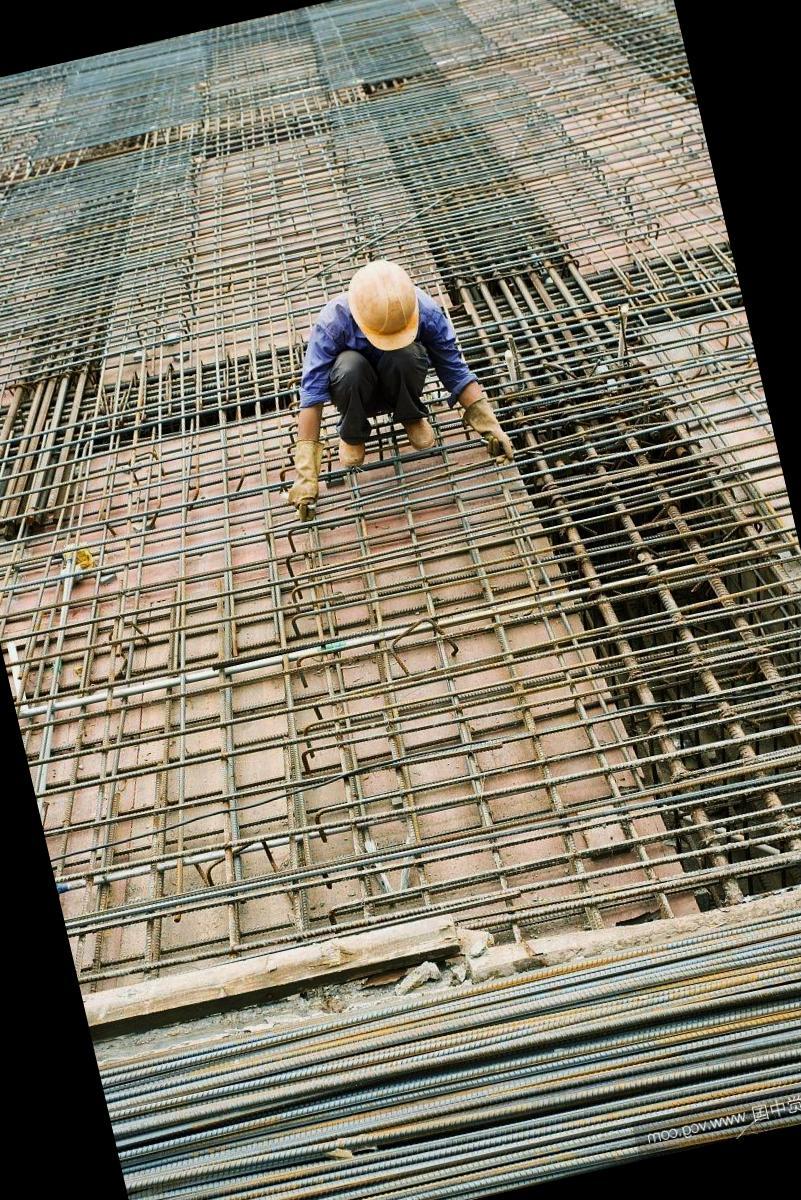helmet: (334, 256, 433, 363)
person: (237, 234, 516, 514)
